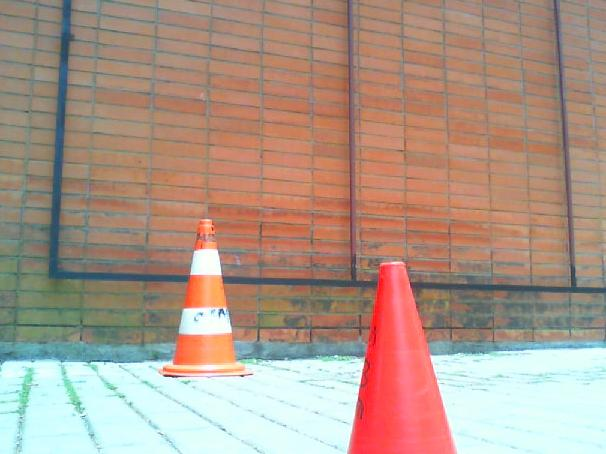0 cone: (333, 262, 471, 454), (158, 220, 254, 377)
